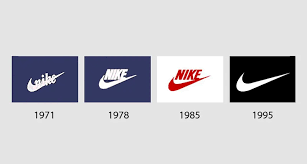nike: (159, 65, 213, 95), (91, 66, 143, 96), (233, 70, 291, 96), (18, 71, 66, 96)
